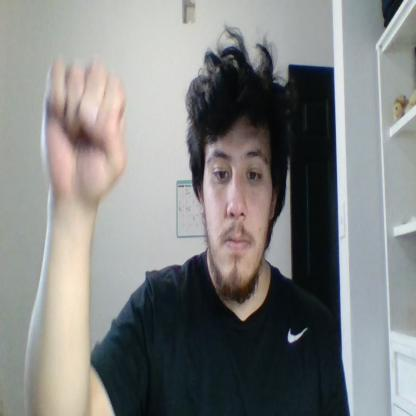S: (41, 53, 128, 201)
